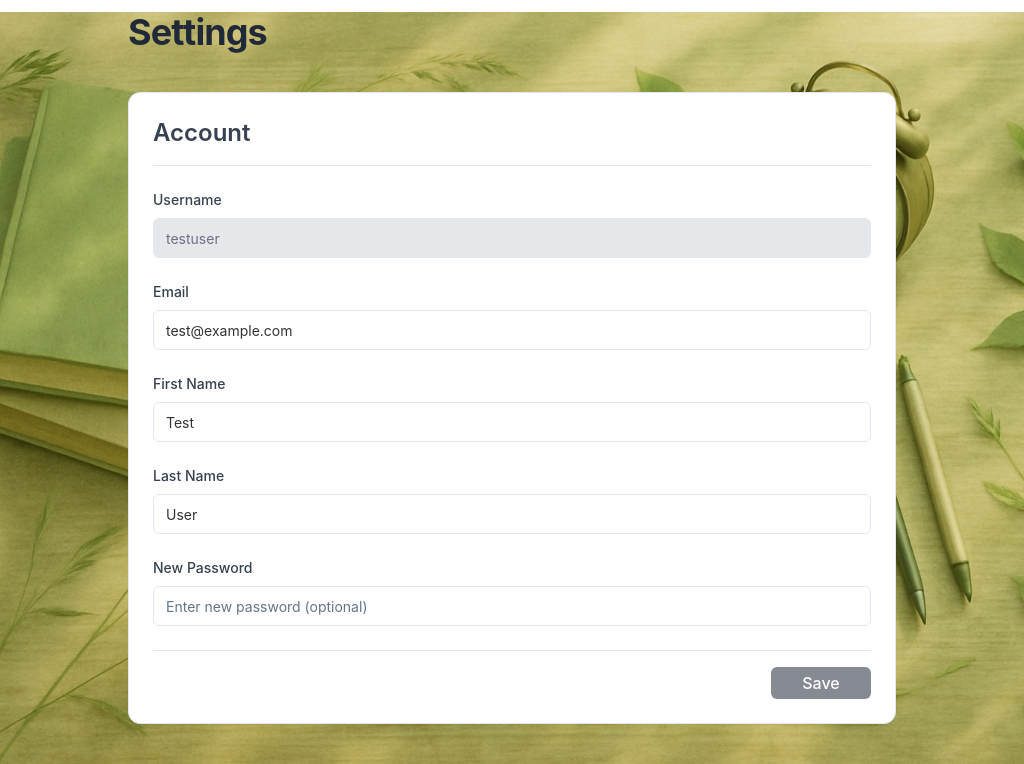
Scenario: UserSettingsPage › shows an error message if the update fails
The image size is (1024, 764).
# Make a change to enable the button
Replace the text in the field labelled "First Name" with "Updated" at (512, 422), box [153,402,871,442]
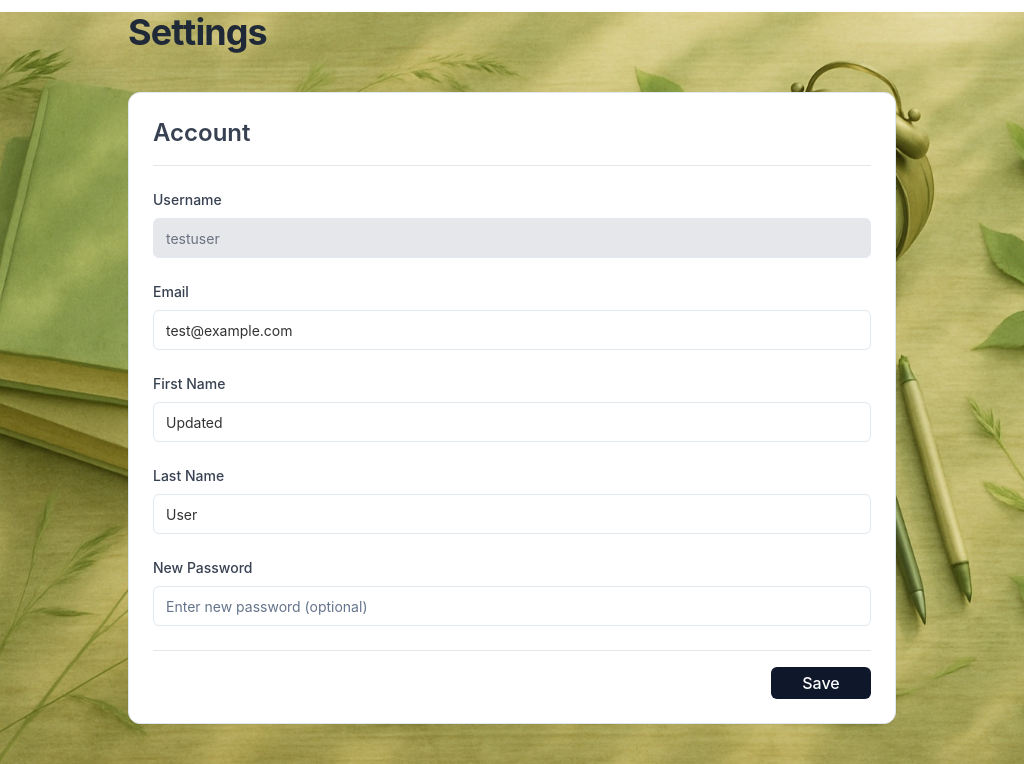
Expected: the button "Save" is enabled
Click the button "Save" at (821, 683), box [771,667,871,699]
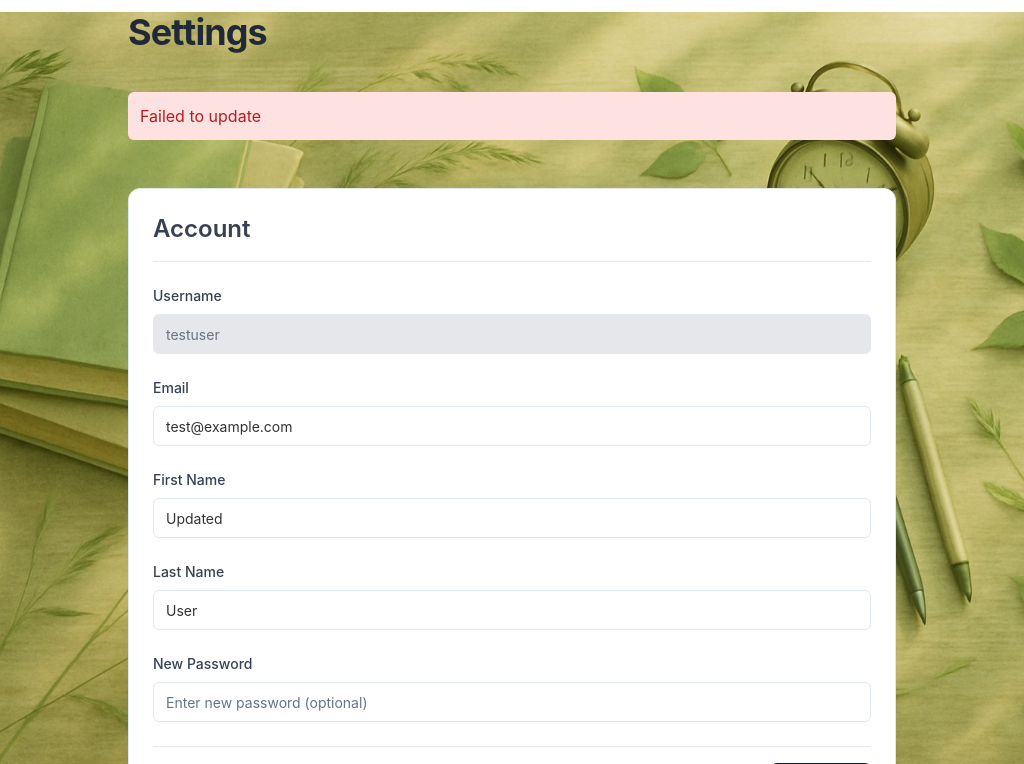
Expected: the text "Failed to update" is shown, [128,92,896,140]
